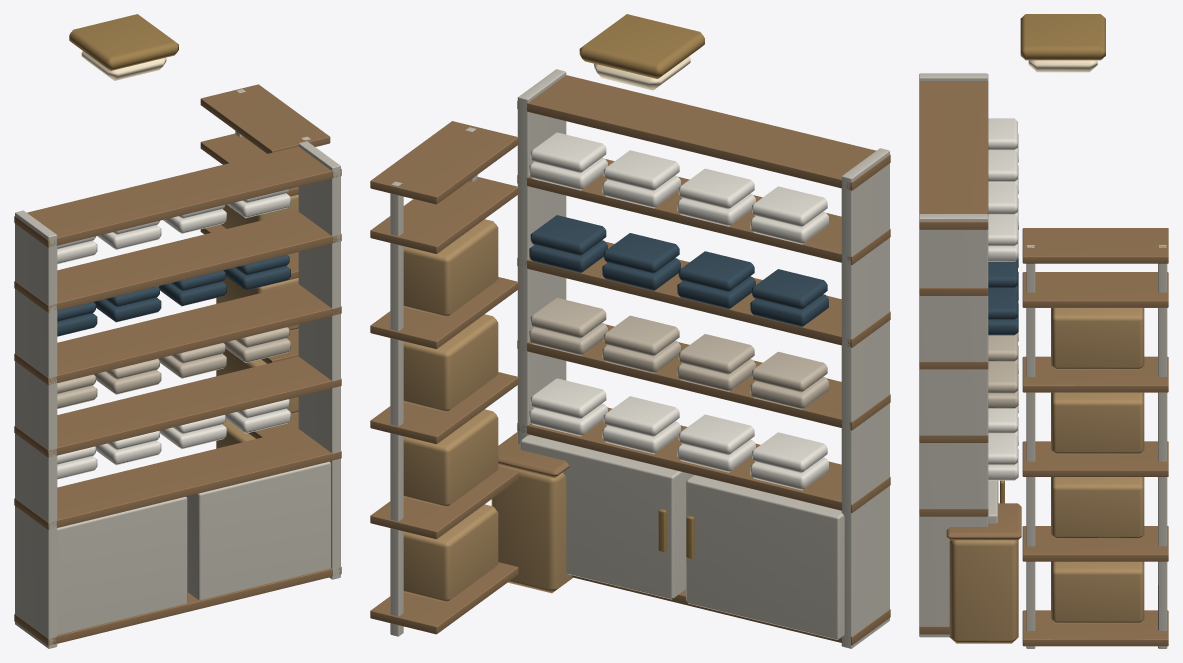
The model's file is linen-furniture-v002.glb.
3 renders of one model, left to right at view 1: azimuth 30°, elevation 25°; view 2: azimuth 150°, elevation 25°; view 3: azimuth 270°, elevation 25°, orthographic. The views are drawn at different scales.
Parts seen in each view (by area): view 1: Export Back cabinet stile; view 2: Export Back cabinet stile; view 3: Export Back cabinet stile.
Boxes of the visible parts, left/top/right/bottom form: Export Back cabinet stile: left=14, top=14, right=341, bottom=648; Export Back cabinet stile: left=370, top=14, right=890, bottom=648; Export Back cabinet stile: left=919, top=14, right=1168, bottom=648.
Size of the model in its own units: 1.93 by 2.93 by 1.23.
